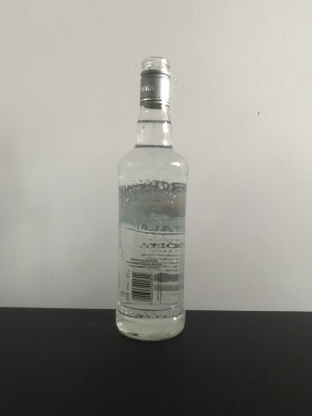nakretka: (137, 53, 172, 111)
